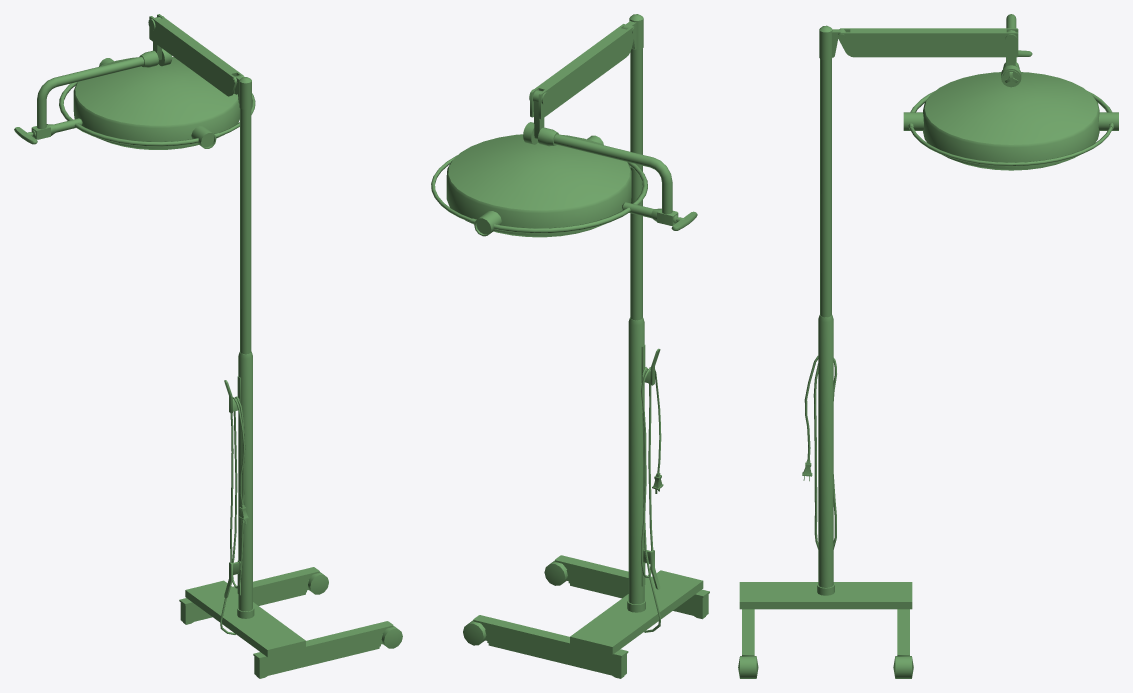
The model's file is SM_SurgicalLight_01a.FBX.
3 renders of one model, left to right at view 1: azimuth 30°, elevation 25°; view 2: azimuth 150°, elevation 25°; view 3: azimuth 270°, elevation 25°, orthographic. The views are drawn at different scales.
Parts seen in each view (by area): view 1: SM_SurgicalLight_01a_LOD0; view 2: SM_SurgicalLight_01a_LOD0; view 3: SM_SurgicalLight_01a_LOD0.
Boxes of the visible parts, <box> form: SM_SurgicalLight_01a_LOD0: <box>14,14,402,678</box>; SM_SurgicalLight_01a_LOD0: <box>431,14,709,678</box>; SM_SurgicalLight_01a_LOD0: <box>738,14,1118,678</box>.
Size of what is drawn, in the model's own units: 113 by 242 by 140.
